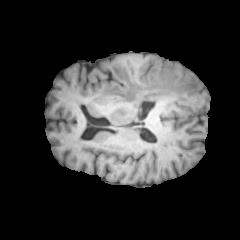glioma: (101, 64, 199, 124)
